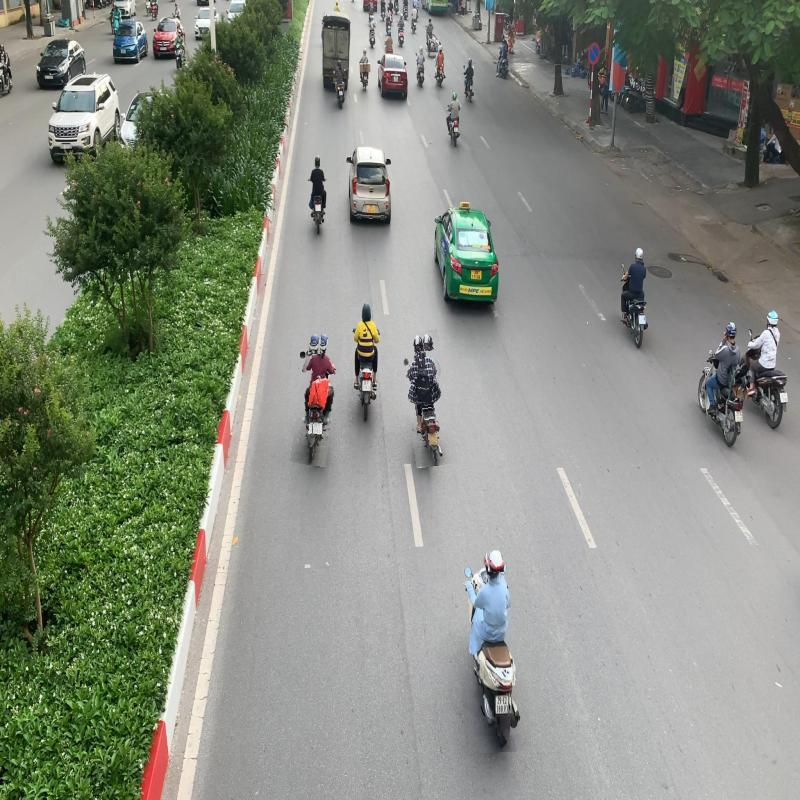helmet: (487, 547, 506, 572), (309, 332, 321, 354), (422, 334, 434, 351)
licenseplate: (494, 693, 510, 717), (312, 421, 323, 437)
motorcyclist: (462, 546, 528, 752), (400, 330, 453, 467), (294, 331, 340, 466)
